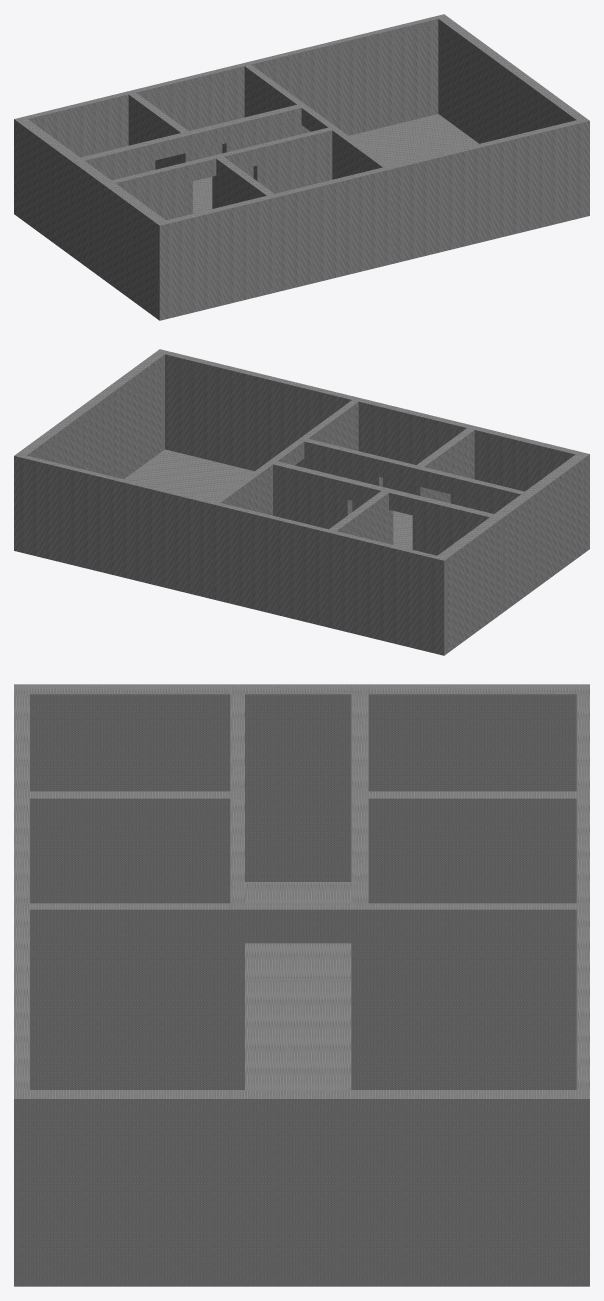
The model's file is Paredes.fbx.
3 renders of one model, top to bottom at view 1: azimuth 30°, elevation 25°; view 2: azimuth 150°, elevation 25°; view 3: azimuth 270°, elevation 25°, orthographic. The views are drawn at different scales.
Parts seen in each view (by area): view 1: Paredes; view 2: Paredes; view 3: Paredes.
Part boxes in pixels (x1,y1,x2,y2): Paredes: (14, 14, 589, 320); Paredes: (14, 349, 589, 655); Paredes: (14, 684, 589, 1286).
Size of the model in its own units: 2592 by 547 by 1521.
1 material, 1 textured.
